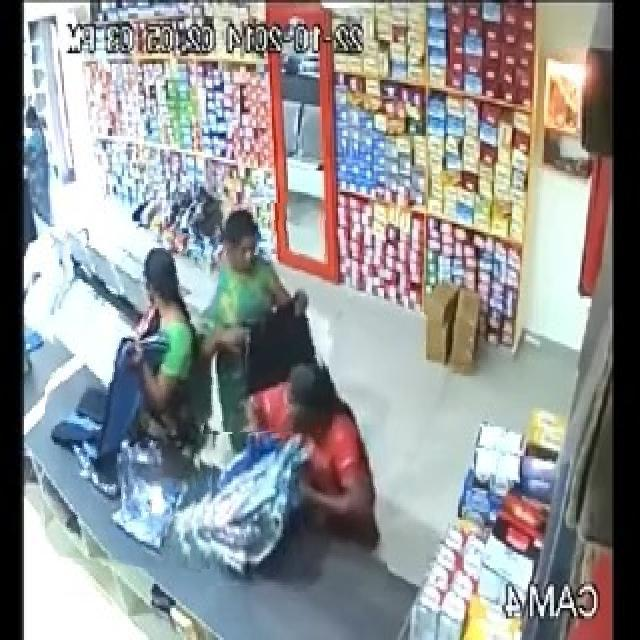normal: (45, 227, 218, 569), (185, 330, 387, 586), (190, 203, 328, 433)
